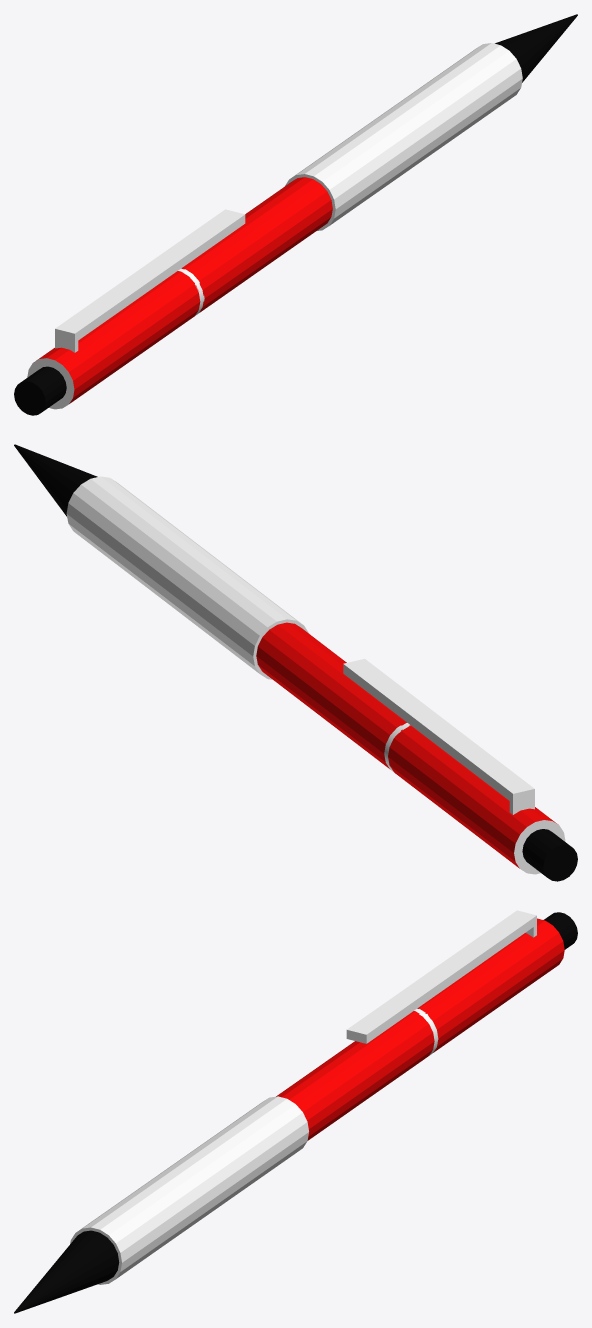
The model's file is pen.obj.
The picture shows the model from 3 angles, top to bottom: view 1: azimuth 90°, elevation 25°; view 2: azimuth 150°, elevation 25°; view 3: azimuth 270°, elevation 25°; orthographic projection. The views are drawn at different scales.
Visible parts, largest first — view 1: meshPen102, meshPen140, meshPen127, meshPen125, meshPen129, meshPen123, meshPen131, meshPen121, meshPen164, meshPen162, meshPen126, meshPen124 (+14 smaller); view 2: meshPen102, meshPen139, meshPen140, meshPen135, meshPen137, meshPen133, meshPen131, meshPen172, meshPen105, meshPen134, meshPen174, meshPen136 (+10 smaller); view 3: meshPen102, meshPen140, meshPen135, meshPen137, meshPen133, meshPen139, meshPen131, meshPen105, meshPen172, meshPen134, meshPen136, meshPen174 (+11 smaller).
Boxes of the visible parts, left/top/right/bottom form: meshPen102: left=55, top=209, right=245, bottom=352; meshPen140: left=20, top=14, right=577, bottom=411; meshPen127: left=323, top=51, right=516, bottom=189; meshPen125: left=329, top=59, right=520, bottom=199; meshPen129: left=314, top=45, right=509, bottom=181; meshPen123: left=334, top=69, right=522, bottom=208; meshPen131: left=305, top=43, right=500, bottom=176; meshPen121: left=334, top=78, right=522, bottom=218; meshPen164: left=193, top=184, right=326, bottom=280; meshPen162: left=199, top=191, right=331, bottom=289; meshPen126: left=63, top=277, right=194, bottom=371; meshPen124: left=69, top=284, right=198, bottom=380; meshPen102: left=343, top=658, right=534, bottom=814; meshPen139: left=66, top=503, right=565, bottom=874; meshPen140: left=14, top=444, right=572, bottom=877; meshPen135: left=73, top=485, right=267, bottom=635; meshPen137: left=68, top=493, right=259, bottom=645; meshPen133: left=81, top=479, right=276, bottom=627; meshPen131: left=91, top=476, right=286, bottom=621; meshPen172: left=262, top=630, right=396, bottom=734; meshPen105: left=66, top=514, right=254, bottom=665; meshPen134: left=394, top=731, right=526, bottom=834; meshPen174: left=258, top=637, right=389, bottom=743; meshPen136: left=390, top=738, right=519, bottom=843; meshPen102: left=346, top=910, right=536, bottom=1043; meshPen140: left=14, top=912, right=577, bottom=1313; meshPen135: left=109, top=1104, right=302, bottom=1242; meshPen137: left=116, top=1112, right=307, bottom=1252; meshPen133: left=100, top=1099, right=295, bottom=1234; meshPen139: left=120, top=1122, right=308, bottom=1262; meshPen131: left=91, top=1096, right=286, bottom=1229; meshPen105: left=120, top=1132, right=308, bottom=1271; meshPen172: left=297, top=1017, right=428, bottom=1111; meshPen134: left=427, top=925, right=558, bottom=1020; meshPen136: left=433, top=933, right=562, bottom=1029; meshPen174: left=303, top=1024, right=432, bottom=1120.
Size of what is drawn, in the model's own units: 56999 by 4764 by 35047.
